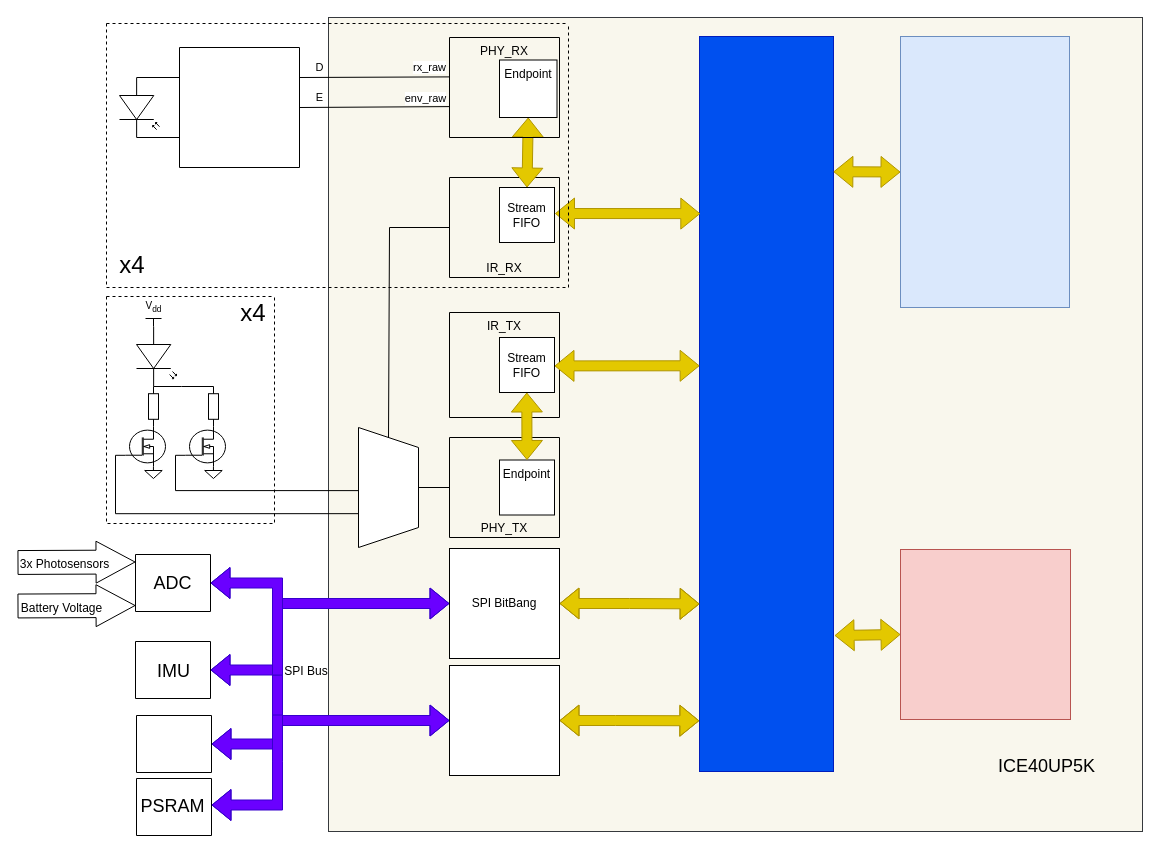
Image size: 1160x853. Some labels were removed from this diagram. Each missing label, with the centre of its shape:
"DeMux Channel + Power" belongs at (x=388, y=487).
"FLASH" belongs at (x=174, y=743).
"RISCV" belongs at (x=985, y=634).
"SPI Flash Memory Mapped" belongs at (x=504, y=720).
"SPRAM" belongs at (x=985, y=172).
"TS4231" belongs at (x=239, y=107).
"Wishbone" belongs at (x=766, y=404).
